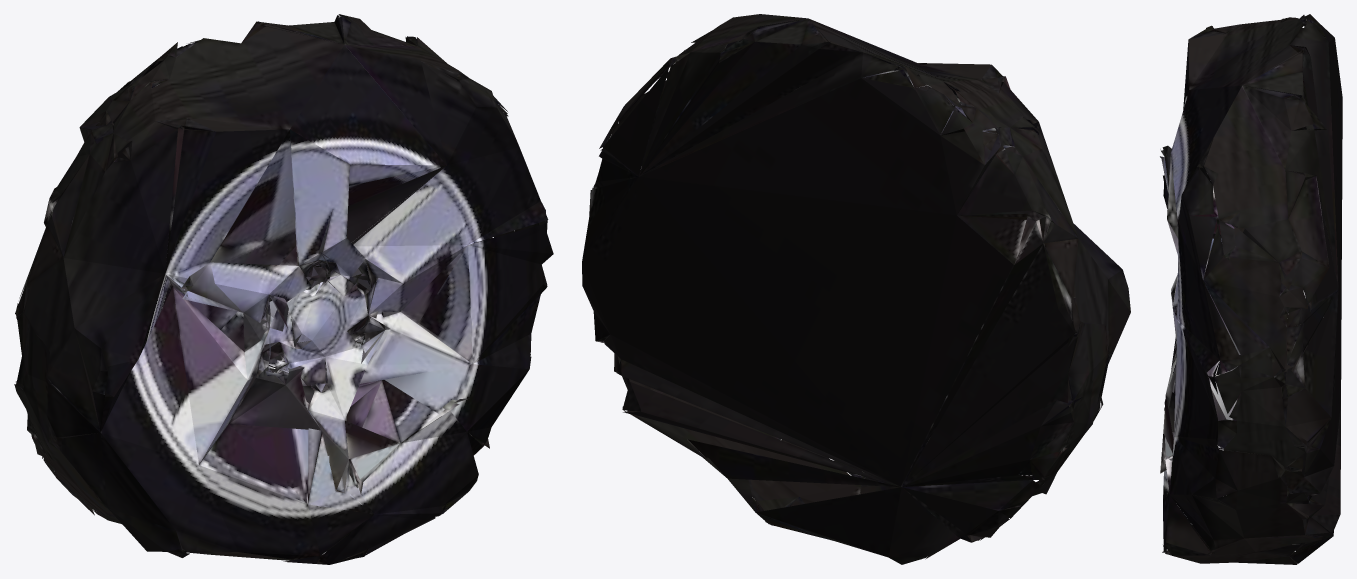
Rendered from tire.glb.
The picture shows the model from 3 angles, left to right: view 1: azimuth 30°, elevation 25°; view 2: azimuth 150°, elevation 25°; view 3: azimuth 270°, elevation 25°; orthographic projection. The views are drawn at different scales.
Parts seen in each view (by area): view 1: geometry_0; view 2: geometry_0; view 3: geometry_0.
Boxes of the visible parts, x1,y1,x2,y2 form: geometry_0: (14,14,553,564); geometry_0: (582,14,1130,564); geometry_0: (1160,14,1342,564).
Size of the model in its own units: 1.99 by 1.95 by 0.6555.
Materials: 1 (1 with a texture image).
